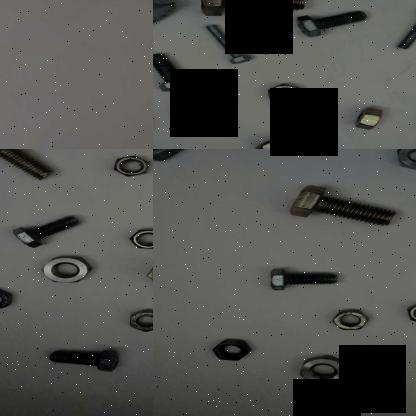Bolts: (288, 180, 398, 228), (6, 210, 88, 247), (262, 258, 346, 294), (47, 341, 124, 375), (296, 7, 370, 38), (203, 22, 255, 64), (196, 0, 308, 19), (153, 49, 198, 93), (0, 149, 55, 180), (393, 2, 416, 50), (134, 255, 153, 294)
NUTS: (298, 352, 352, 388), (166, 96, 228, 126), (38, 254, 93, 286), (203, 333, 256, 363), (98, 151, 153, 177), (346, 100, 388, 134), (259, 82, 307, 108), (326, 307, 374, 331), (121, 303, 153, 337), (120, 220, 153, 252), (251, 132, 298, 149), (392, 149, 416, 172), (0, 279, 16, 313), (153, 149, 188, 164), (404, 297, 416, 325)
